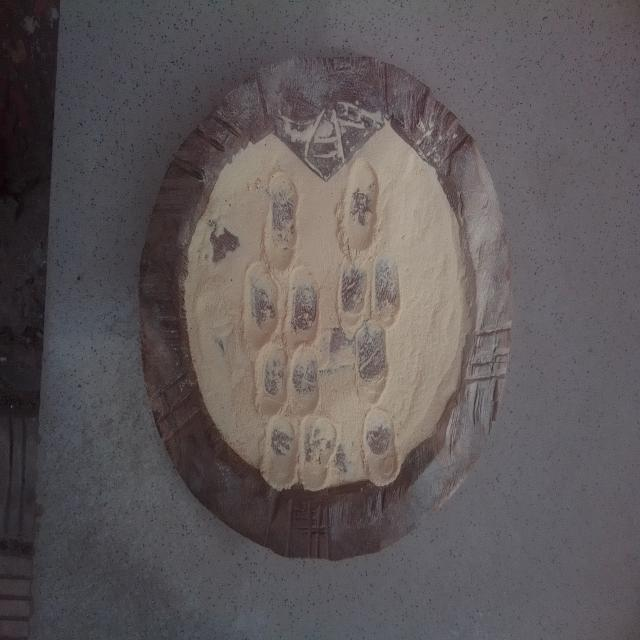double: (258, 408, 340, 497), (246, 262, 321, 342), (250, 344, 324, 412), (336, 258, 402, 329)
single: (260, 165, 302, 272), (337, 158, 383, 254), (352, 318, 392, 402), (362, 406, 402, 481)
